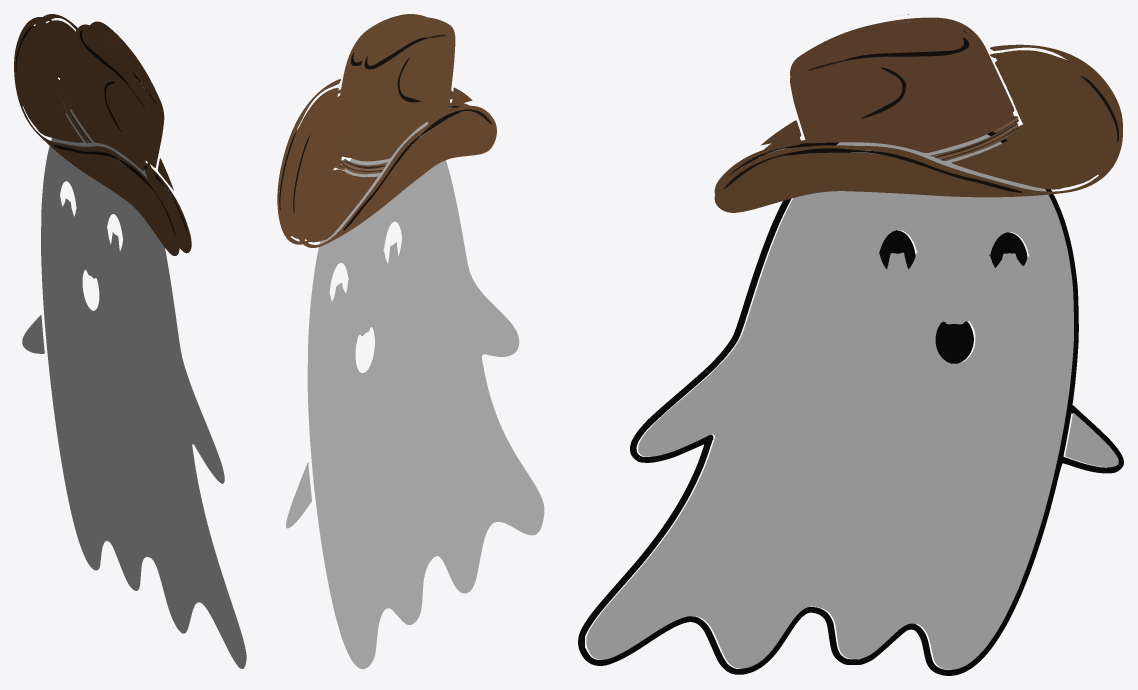
The model's file is cowboy_disappear.glb.
The picture shows the model from 3 angles, left to right: view 1: azimuth 30°, elevation 25°; view 2: azimuth 150°, elevation 25°; view 3: azimuth 270°, elevation 25°; orthographic projection. The views are drawn at different scales.
Parts seen in each view (by area): view 1: base, hat; view 2: base, hat; view 3: base, hat.
Part boxes in pixels (x1=…): base: x1=22, y1=109, x2=246, y2=668; hat: x1=14, y1=14, x2=191, y2=255; base: x1=286, y1=122, x2=544, y2=669; hat: x1=277, y1=14, x2=496, y2=247; base: x1=578, y1=131, x2=1123, y2=675; hat: x1=714, y1=14, x2=1122, y2=212.
Size of the model in its own units: 0.3894 by 10.14 by 7.61.
